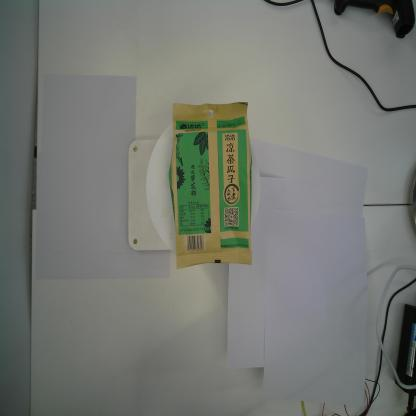Dried Food: (168, 100, 254, 272)
